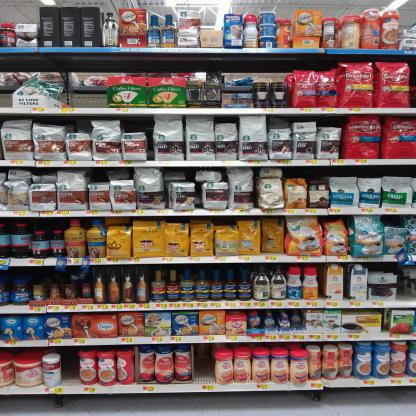Void: (284, 167, 414, 178), (64, 75, 108, 106), (193, 349, 215, 380), (64, 354, 79, 387), (122, 117, 148, 133), (398, 274, 412, 302), (269, 116, 291, 129), (69, 119, 88, 130), (320, 117, 340, 127), (383, 216, 404, 225), (92, 170, 104, 185)
